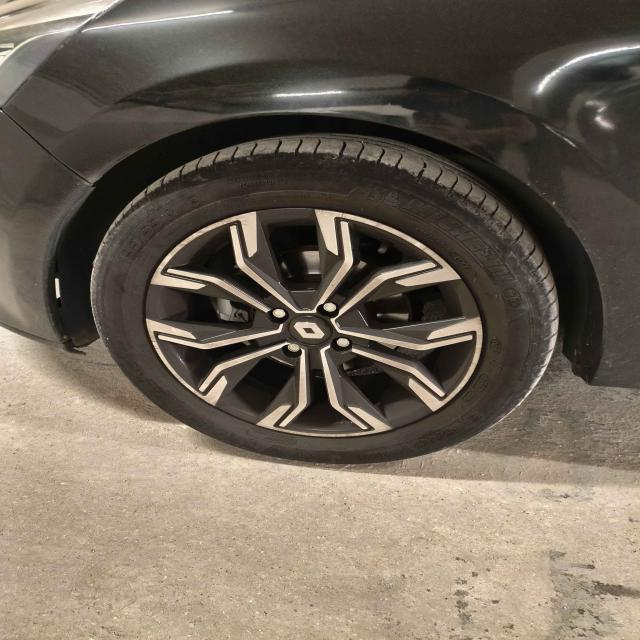jante: (144, 206, 486, 437)
parafuso: (316, 298, 342, 321), (278, 341, 306, 362), (326, 334, 355, 353), (264, 305, 290, 323)
roda: (90, 128, 560, 466)
